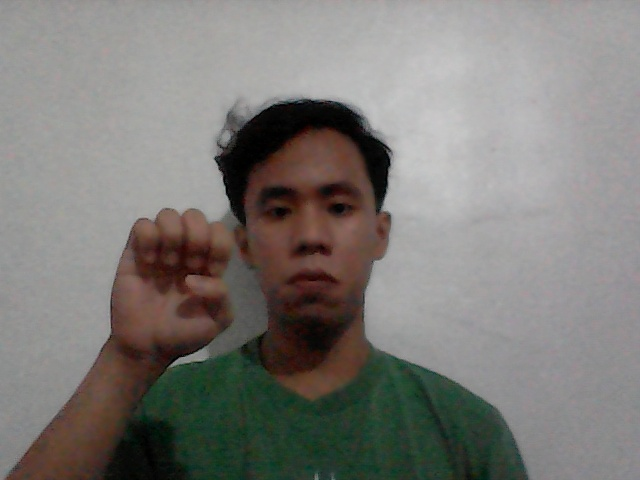E: (83, 190, 265, 385)
